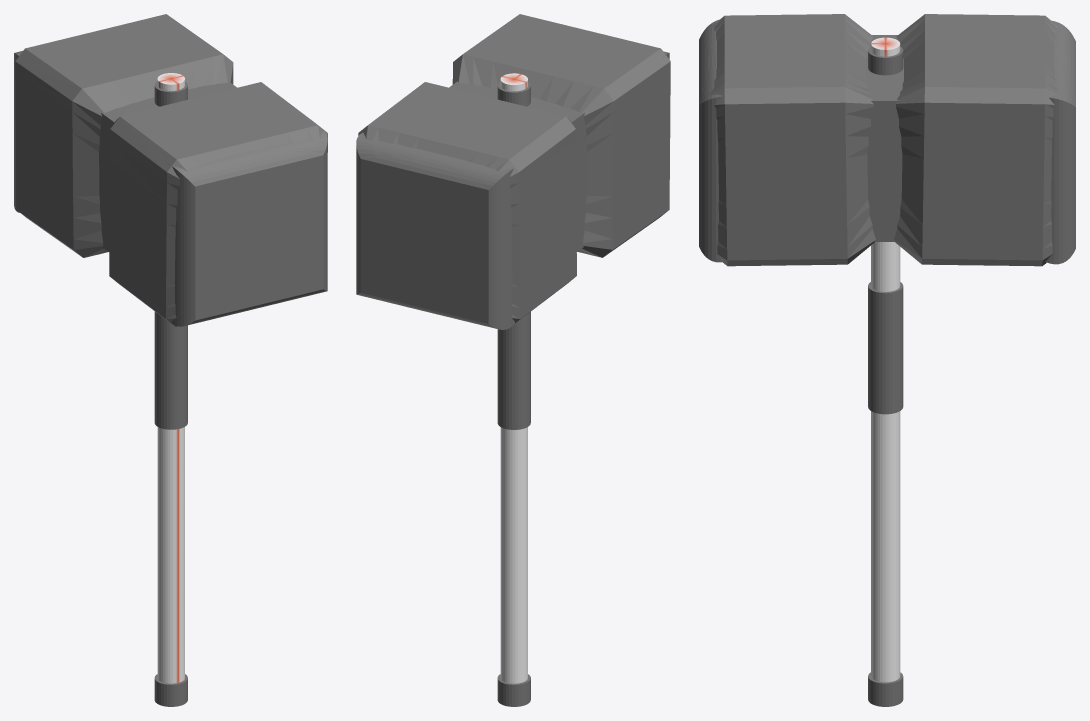
The model's file is ornatehammer.fbx.
The picture shows the model from 3 angles, left to right: view 1: azimuth 30°, elevation 25°; view 2: azimuth 150°, elevation 25°; view 3: azimuth 270°, elevation 25°; orthographic projection. The views are drawn at different scales.
Parts seen in each view (by area): view 1: metal, UMesh_stone1_oPP1, UMesh_stone1_oPP, handle_SeamsColor; view 2: metal, UMesh_stone1_oPP, UMesh_stone1_oPP1, handle_SeamsColor; view 3: UMesh_stone1_oPP1, UMesh_stone1_oPP, metal, handle_SeamsColor.
Boxes of the visible parts, left/top/right/bottom form: metal: left=14, top=51, right=327, bottom=706; UMesh_stone1_oPP1: left=15, top=14, right=233, bottom=257; UMesh_stone1_oPP: left=109, top=82, right=327, bottom=326; handle_SeamsColor: left=157, top=73, right=184, bottom=683; metal: left=356, top=51, right=669, bottom=706; UMesh_stone1_oPP: left=452, top=14, right=670, bottom=257; UMesh_stone1_oPP1: left=358, top=82, right=576, bottom=323; handle_SeamsColor: left=500, top=73, right=527, bottom=683; UMesh_stone1_oPP1: left=894, top=14, right=1058, bottom=266; UMesh_stone1_oPP: left=709, top=14, right=875, bottom=266; metal: left=699, top=19, right=1075, bottom=706; handle_SeamsColor: left=871, top=37, right=900, bottom=682.
Size of the model in its own units: 2.69 by 9.92 by 5.17.
